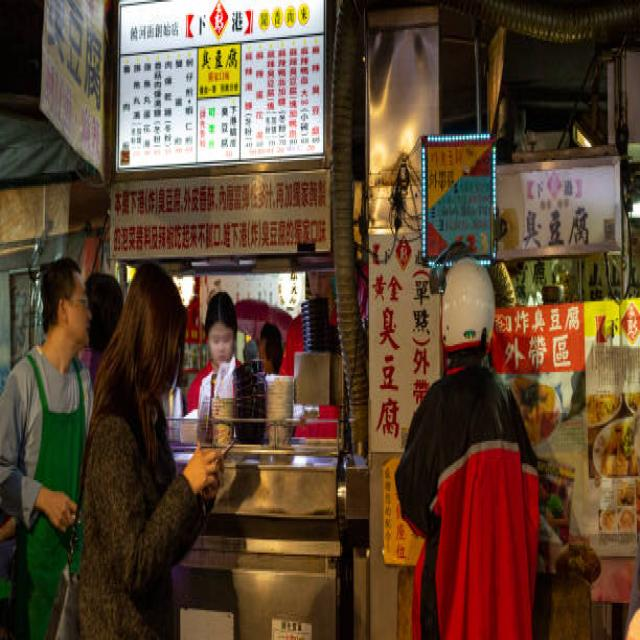Emperan: (97, 0, 358, 640)
